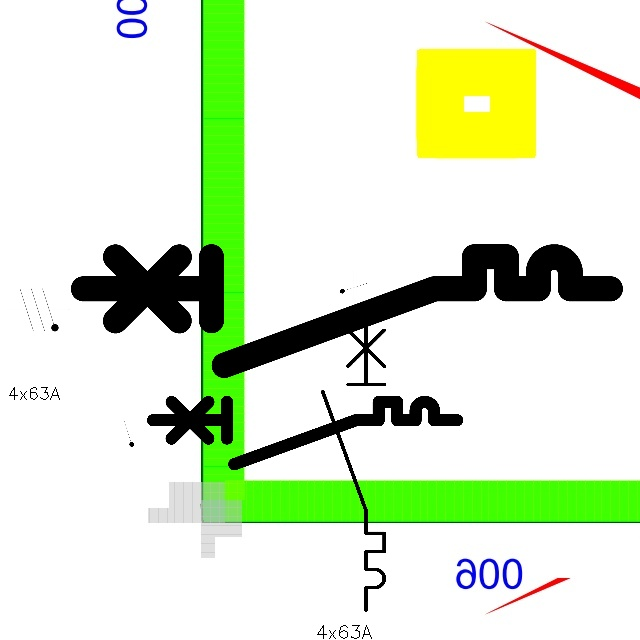interruptor_termomagnetico: (69, 243, 624, 378), (145, 394, 465, 472), (315, 304, 392, 618)
